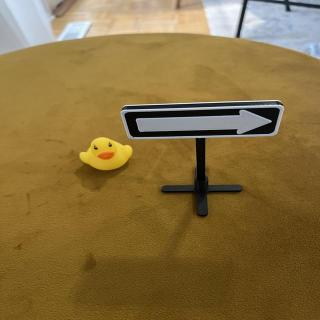duck_regular: (80, 137, 135, 174)
sign_oneway_right: (121, 104, 287, 142)
